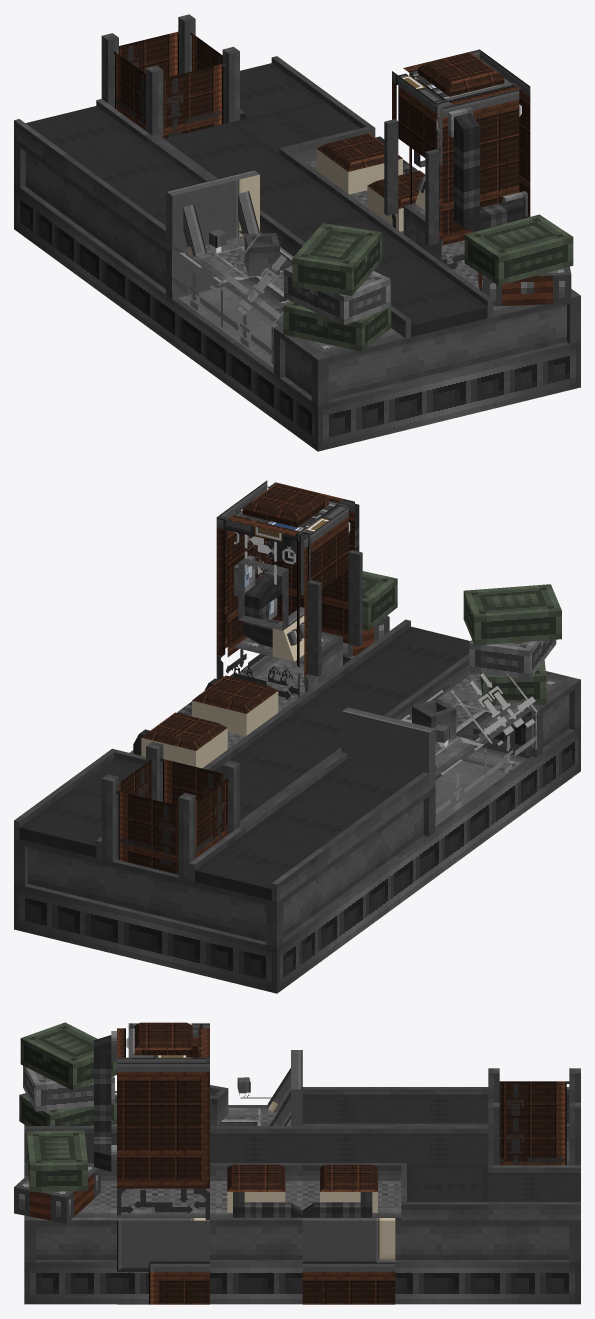
Rendered from ammunition_assembler_flipped.obj.
3 renders of one model, top to bottom at view 1: azimuth 30°, elevation 25°; view 2: azimuth 150°, elevation 25°; view 3: azimuth 270°, elevation 25°, orthographic. The views are drawn at different scales.
Visible parts, largest first — view 1: main; view 2: main; view 3: main.
Part boxes in pixels (bbox=[...]): main: bbox=[14, 14, 580, 451]; main: bbox=[14, 480, 580, 993]; main: bbox=[14, 1022, 580, 1304].
Bounding box in the file's own units: 3.26 × 3 × 6.11.
